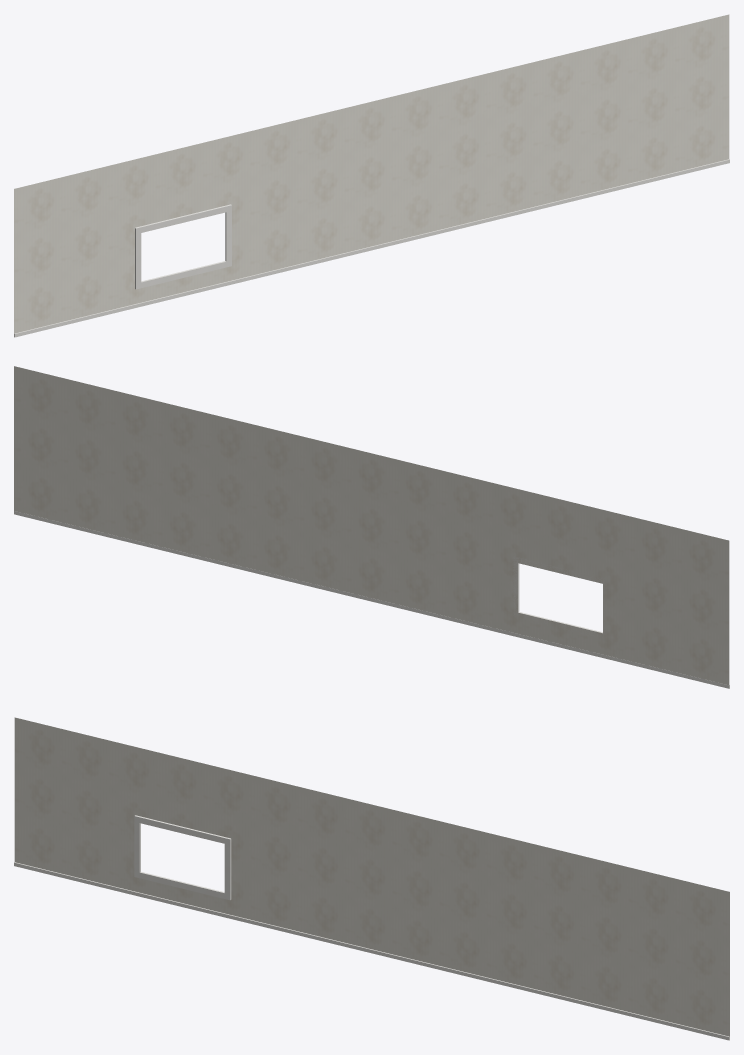
3 renders of one model, top to bottom at view 1: azimuth 30°, elevation 25°; view 2: azimuth 150°, elevation 25°; view 3: azimuth 330°, elevation 25°, orthographic.
Visible parts, largest first — view 1: jx_wm_30_7c41bb59; view 2: jx_wm_30_7c41bb59; view 3: jx_wm_30_7c41bb59.
Part boxes in pixels (<box>): jx_wm_30_7c41bb59: <box>14,14,729,337</box>; jx_wm_30_7c41bb59: <box>14,366,729,688</box>; jx_wm_30_7c41bb59: <box>14,717,729,1040</box>.
Bounding box in the file's own units: 30.3 × 6 × 0.086.
Materials: 2 (2 with a texture image).
